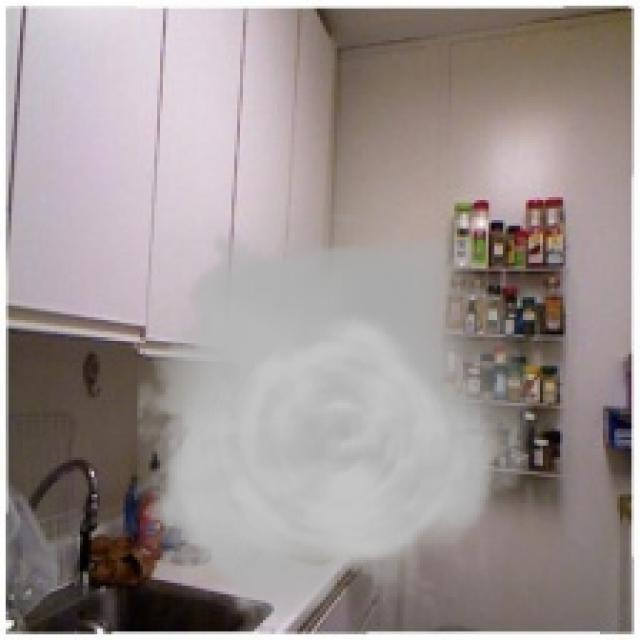Smoke: (137, 215, 534, 634)
